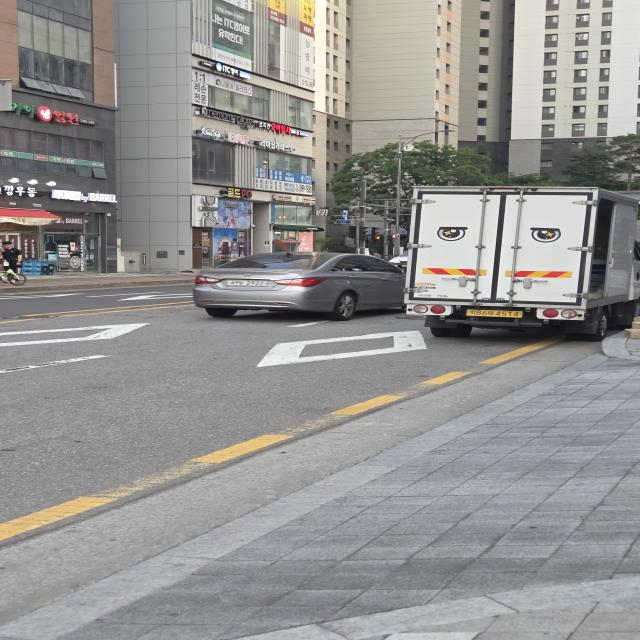car: (369, 170, 640, 352), (162, 232, 405, 336)
